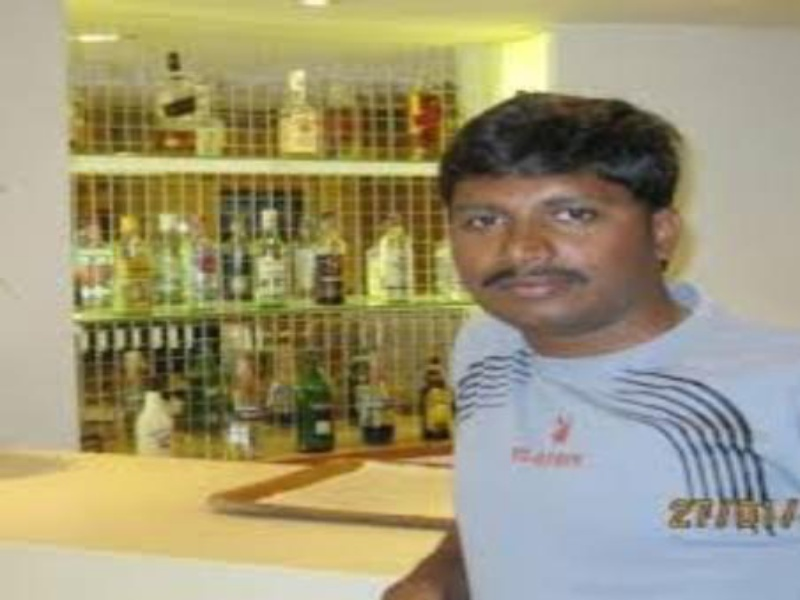TsisyArotava: (422, 87, 701, 330)
